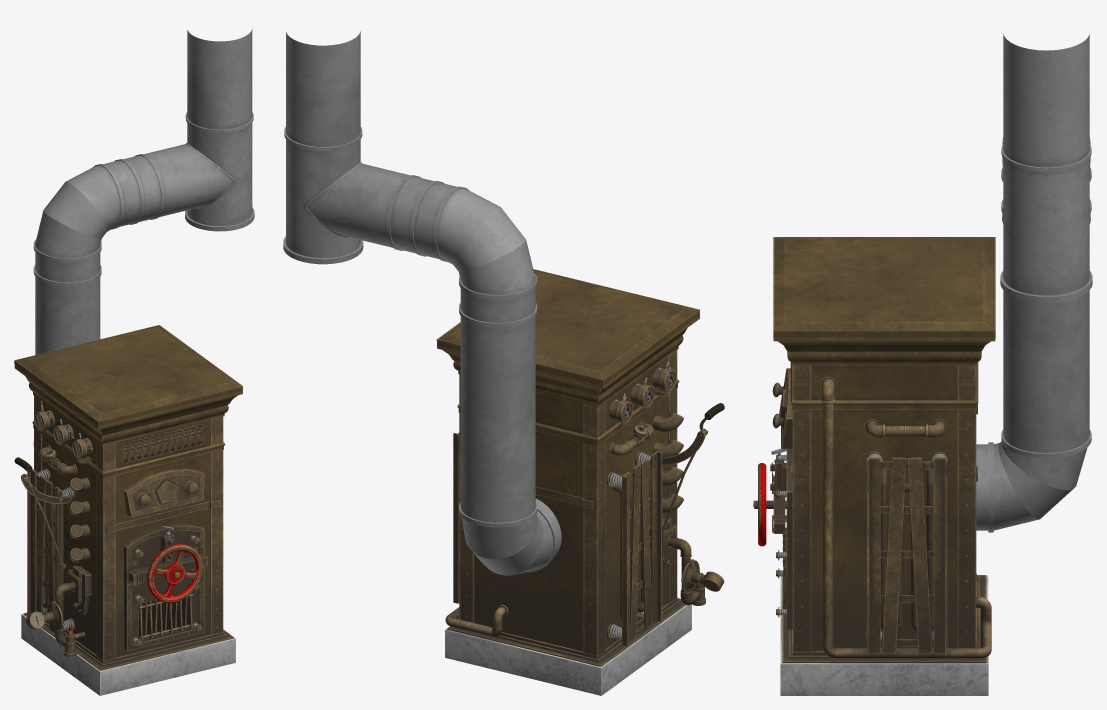
File: vintage_boiler.glb
3 renders of one model, left to right at view 1: azimuth 30°, elevation 25°; view 2: azimuth 150°, elevation 25°; view 3: azimuth 270°, elevation 25°, orthographic. The views are drawn at different scales.
Parts seen in each view (by area): view 1: Body, Exhaust, Wheel; view 2: Body, Exhaust; view 3: Body, Exhaust, Wheel.
Part boxes in pixels (x1,y1,x2,y2): Body: [14, 325, 242, 695]; Exhaust: [33, 29, 254, 446]; Wheel: [147, 544, 202, 602]; Body: [436, 269, 724, 695]; Exhaust: [283, 31, 561, 575]; Body: [770, 237, 995, 695]; Exhaust: [976, 33, 1092, 532]; Wheel: [753, 463, 786, 546].
Bounding box in the file's own units: 2.29 × 3.93 × 1.68.
3 materials, 3 textured.
